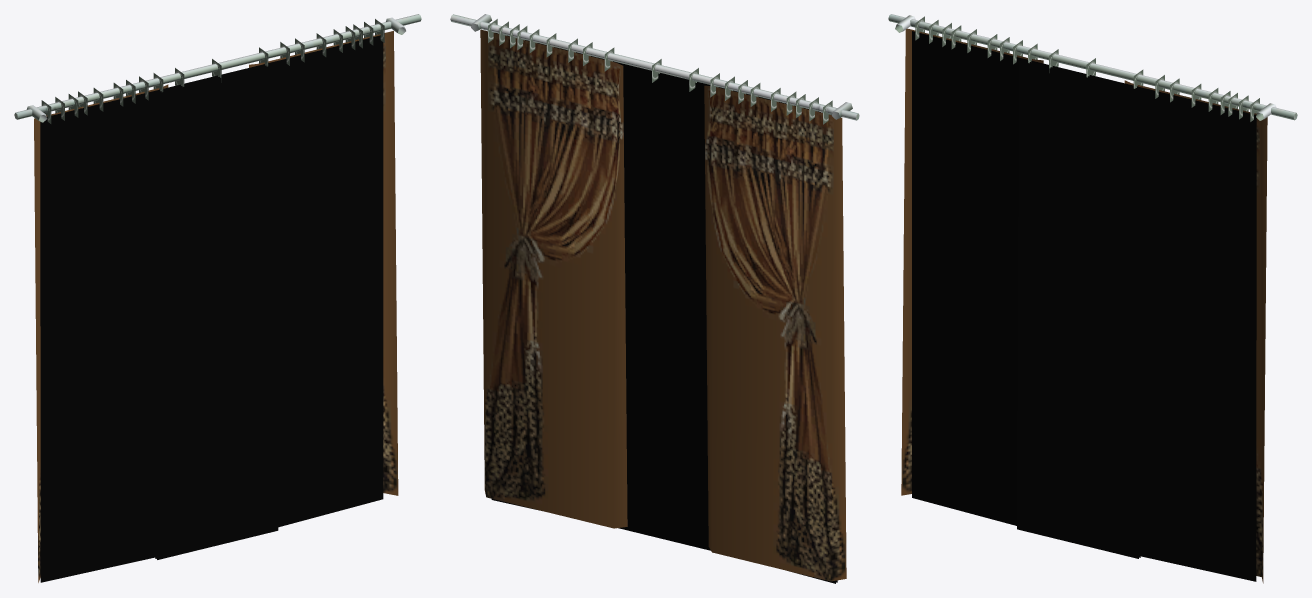
Rendered from furni_0200150.FBX.
3 renders of one model, left to right at view 1: azimuth 30°, elevation 25°; view 2: azimuth 150°, elevation 25°; view 3: azimuth 330°, elevation 25°, orthographic.
Visible parts, largest first — view 1: furni_0200150; view 2: furni_0200150; view 3: furni_0200150.
Part boxes in pixels (left/top/right/bottom): furni_0200150: left=14, top=14, right=421, bottom=582; furni_0200150: left=450, top=14, right=859, bottom=583; furni_0200150: left=888, top=14, right=1297, bottom=583.
Size of the model in its own units: 193 by 218 by 11.14.
Materials: 2 (2 with a texture image).
